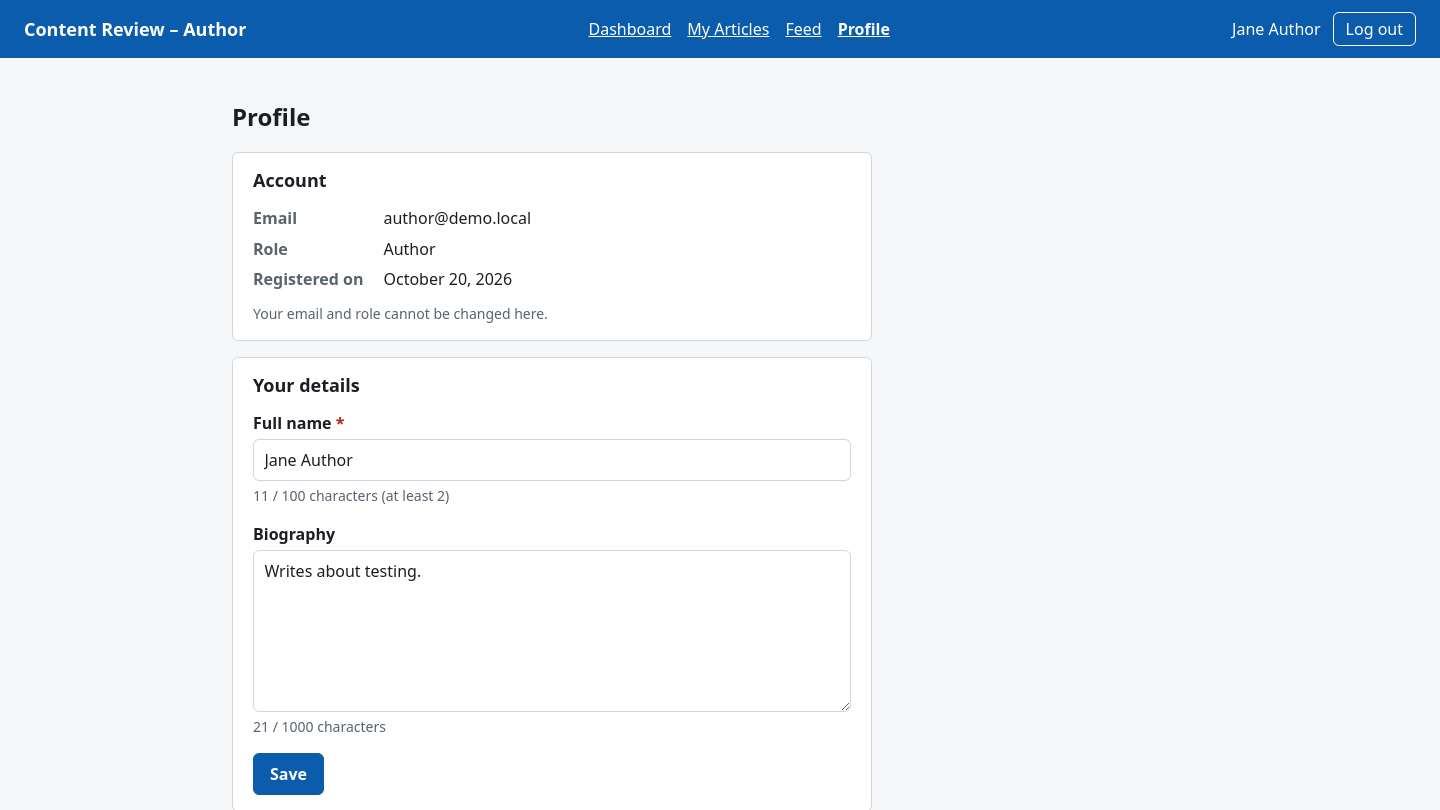
Scenario: showing the profile › shows live character counters
Expected: the field with test id "profile-fullname" is shown, [253,440,851,482]
Expected: the text "11 / 100 characters (at least 2)" is shown, [253,486,449,506]
Step 1. Type "!!" into the text box with test id "profile-bio" → x=552, y=632, box [253,550,851,712]
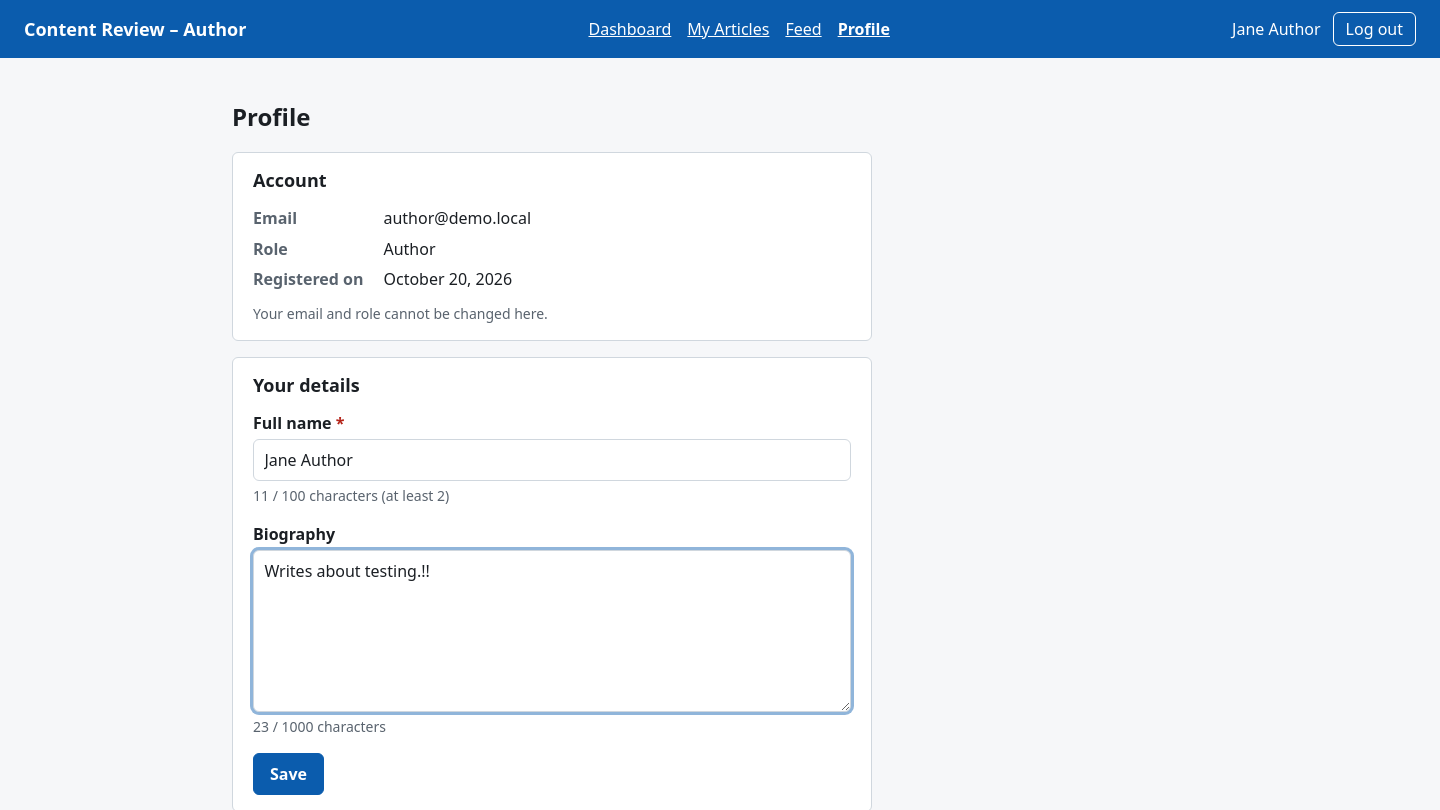
Now the text "23 / 1000 characters" is shown, box [253,718,386,736]
